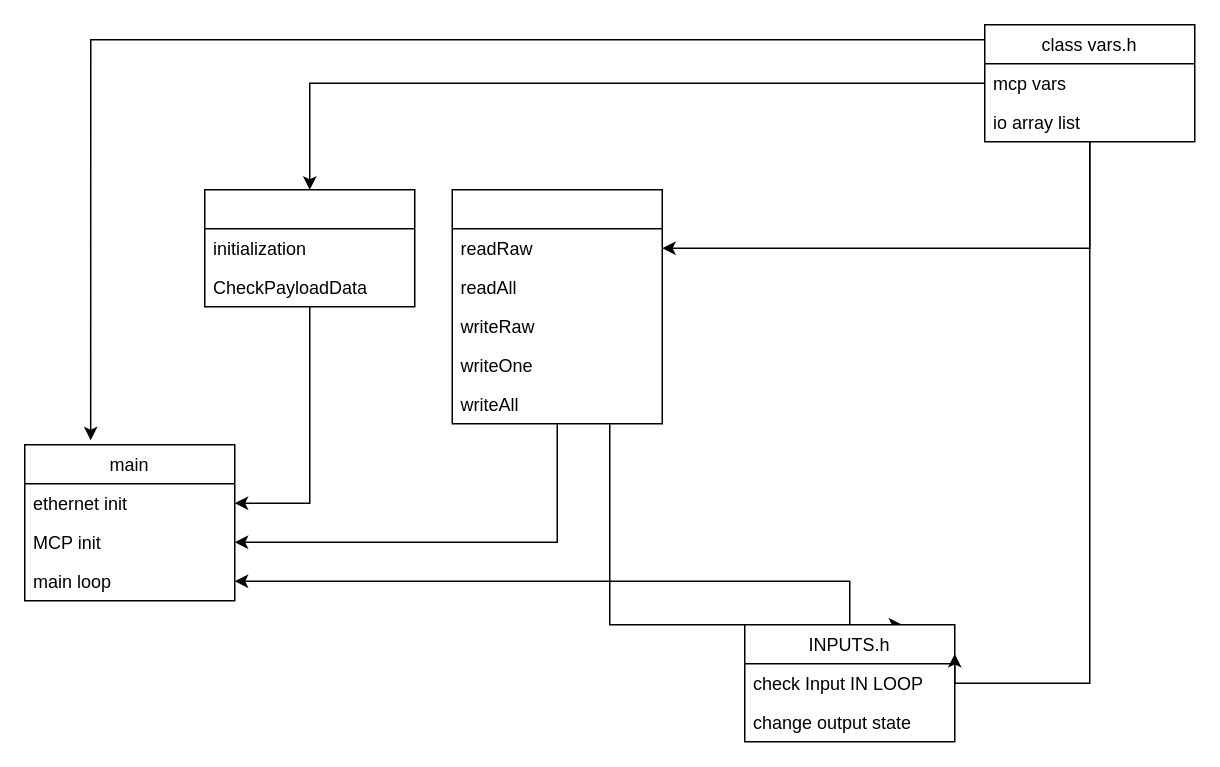
This 1220x767 diagram has some shape labels left out. The box of each missing label's shape, as (x1, y1, x2, y2) in pixels:
class Ethernet.h: (203, 188, 415, 307)
class MCP.h: (451, 188, 662, 424)
